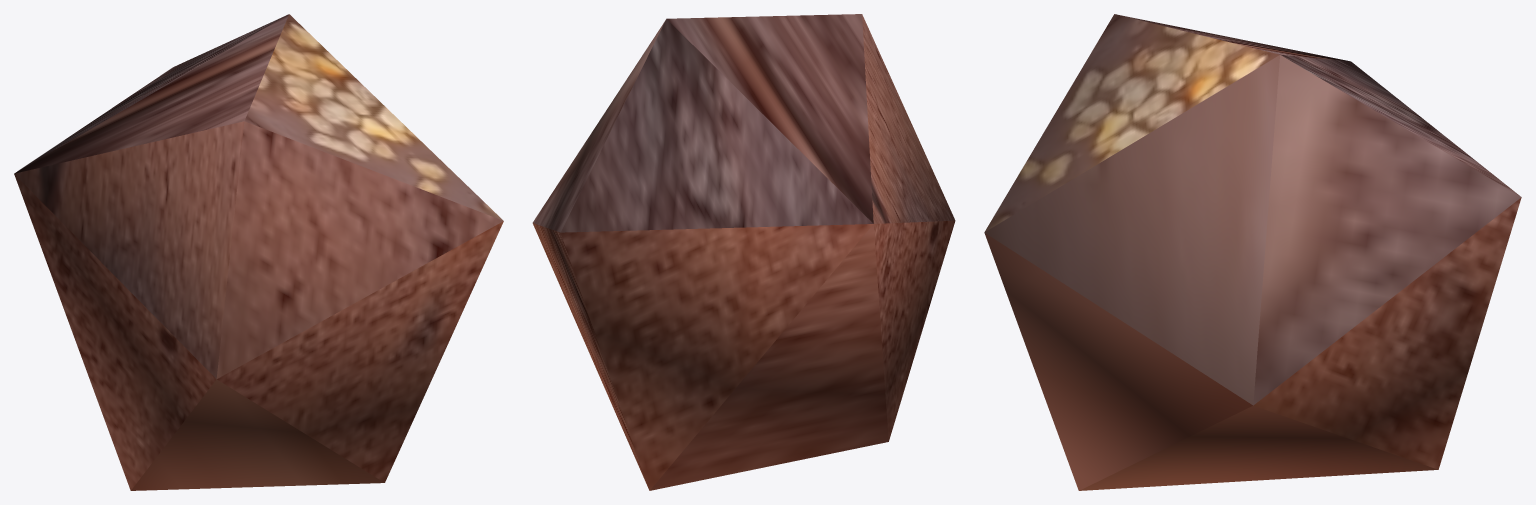
The model's file is muffin_16.obj.
3 renders of one model, left to right at view 1: azimuth 30°, elevation 25°; view 2: azimuth 150°, elevation 25°; view 3: azimuth 270°, elevation 25°, orthographic. The views are drawn at different scales.
Bounding box in the file's own units: 13.11 × 13.17 × 14.42.
1 material, 1 textured.
